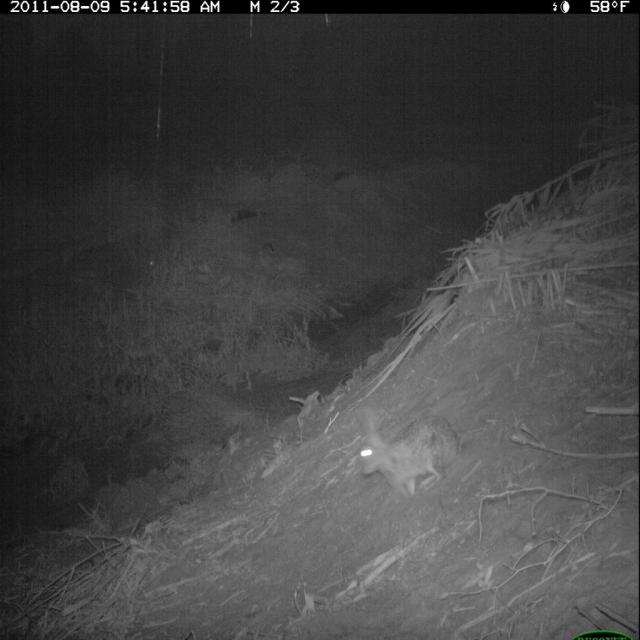rabbit: (349, 397, 472, 508)
